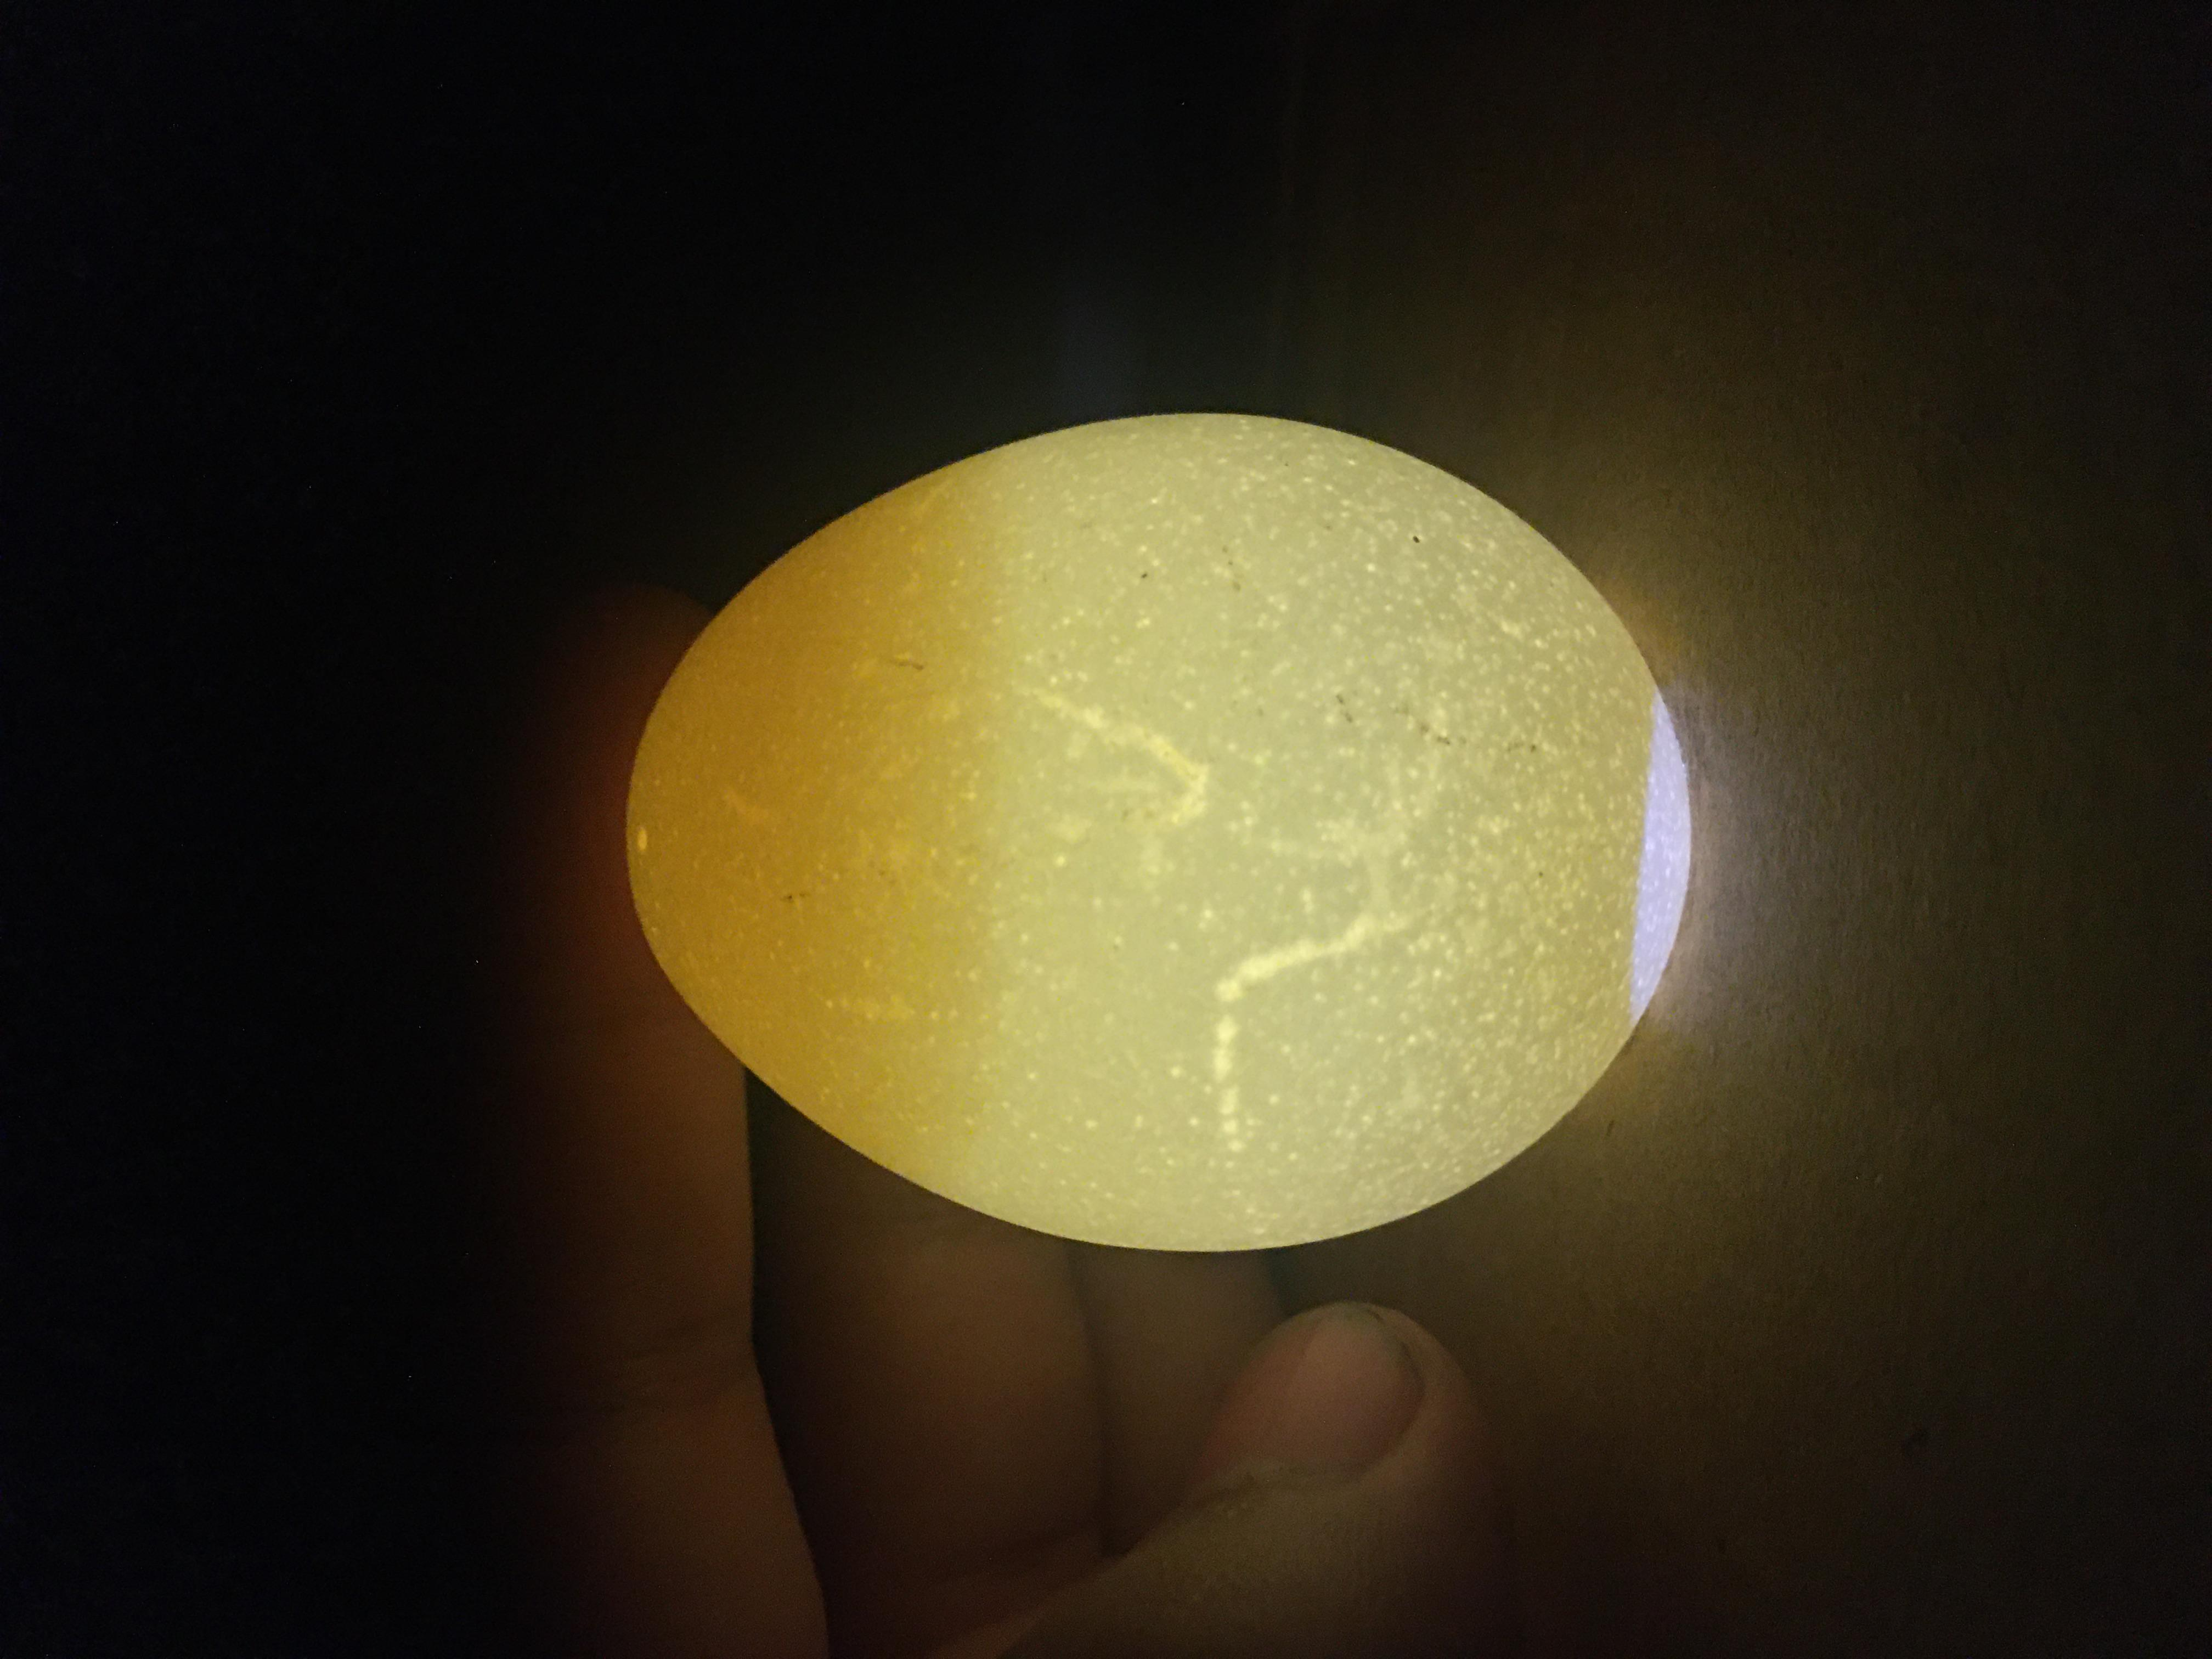B - Fair: (529, 448, 1676, 1290)
